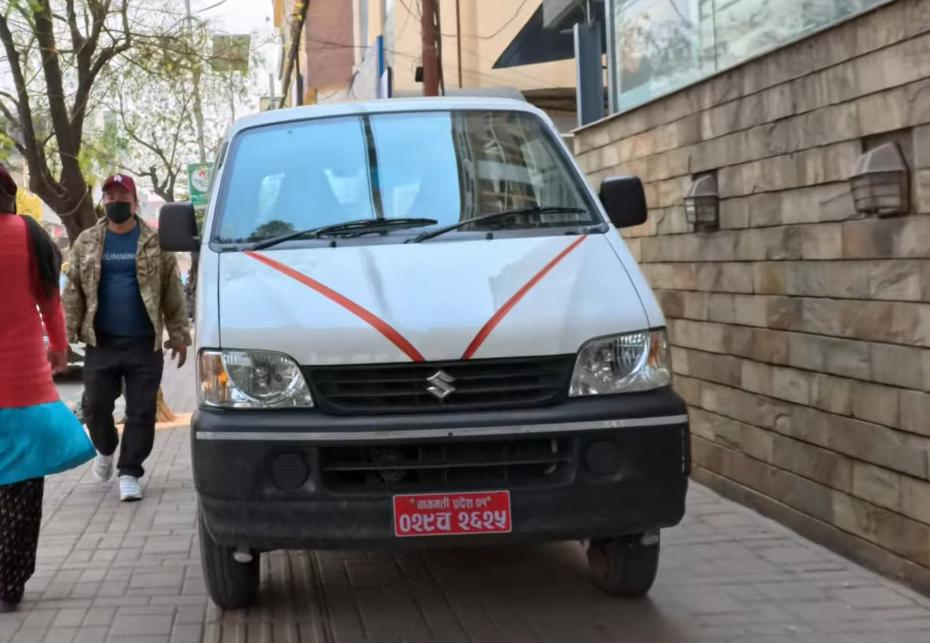van: (140, 86, 708, 611)
